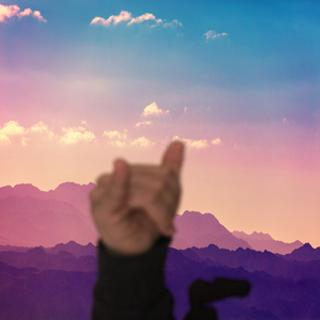HAVE: (76, 131, 200, 259)
